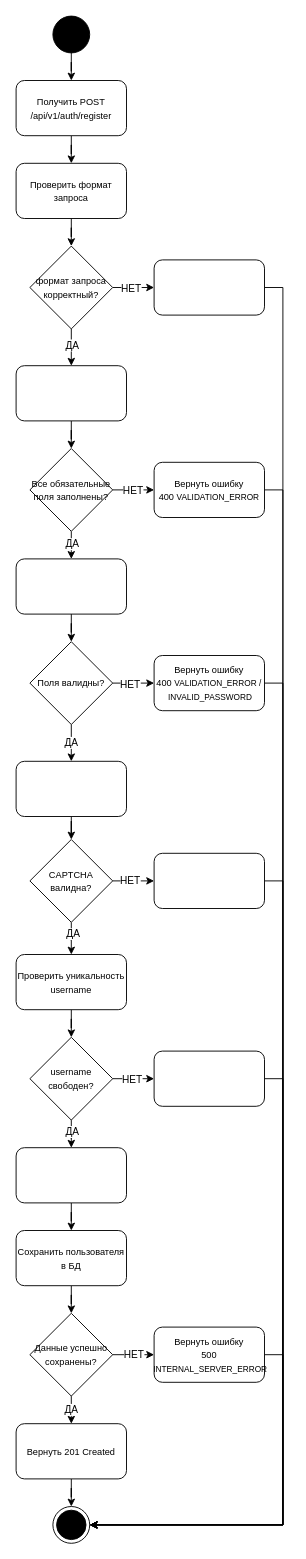
Some shapes in this 306 by 1559 pixel diagram are drawn without their labels. Each missing label, with the box of its shape:
Вернуть ошибку 400 Bad Request: (153, 259, 264, 315)
Вернуть ошибку 409 USER_ALREADY_EXISTS: (153, 1050, 264, 1106)
Вернуть ошибку 422 INVALID_CAPTCHA: (153, 852, 264, 908)
Проверить CAPTCHA Token через CAPTCHA-сервис: (15, 760, 126, 816)
Проверить валидность полей firstname, lastname, username, password: (15, 558, 126, 614)
Проверить обязательные поля: (15, 365, 126, 421)
Сформировать данные пользователя для сохранения в БД: (15, 1147, 126, 1203)
